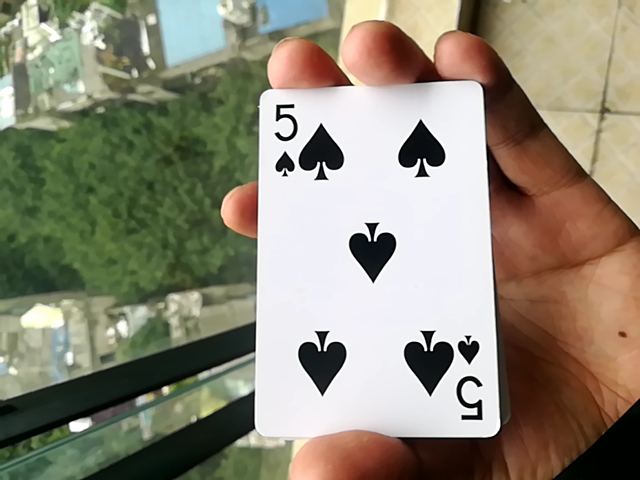ht 5: (238, 81, 496, 447)
